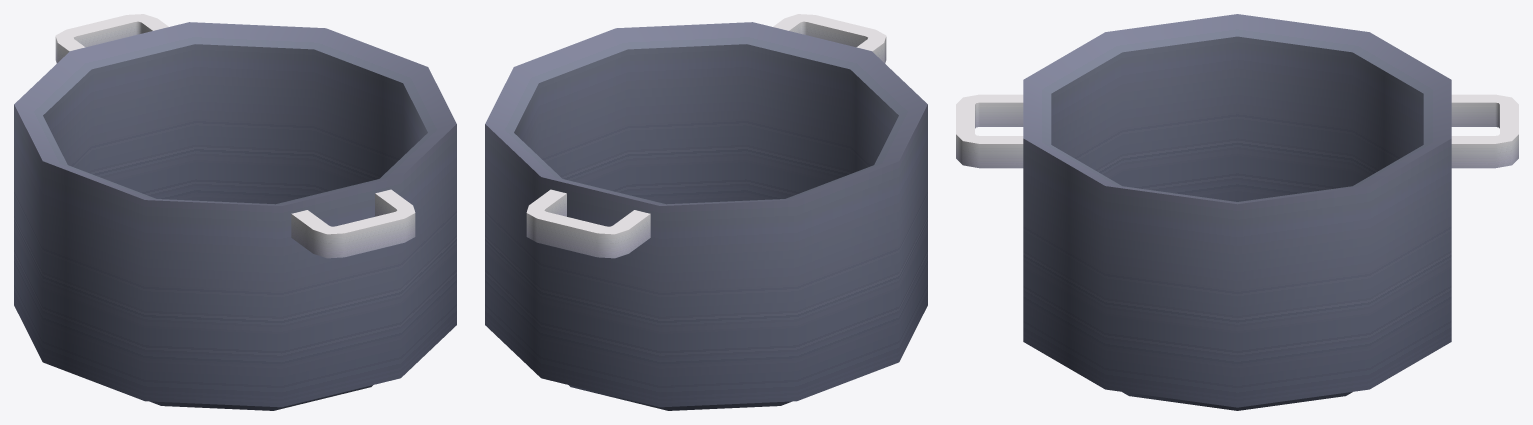
Rendered from pot.glb.
3 renders of one model, left to right at view 1: azimuth 30°, elevation 25°; view 2: azimuth 150°, elevation 25°; view 3: azimuth 270°, elevation 25°, orthographic.
Visible parts, largest first — view 1: pot; view 2: pot; view 3: pot.
Boxes of the visible parts, box(x1,y1,x2,y2) form: pot: box(14, 14, 456, 410); pot: box(485, 14, 927, 410); pot: box(956, 14, 1518, 410).
Bounding box in the file's own units: 0.6575 × 0.3608 × 0.8221.
1 material, 1 textured.
